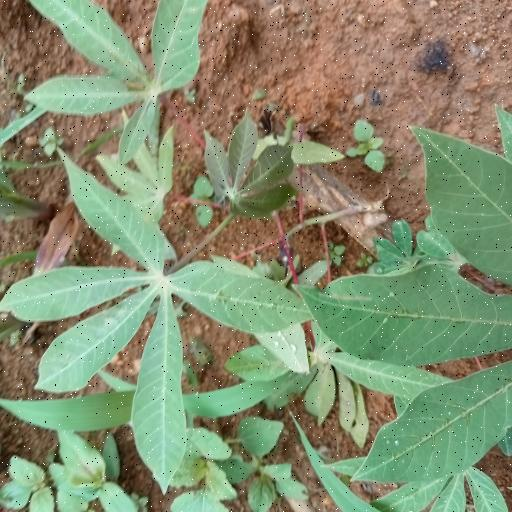Cassava_Mosaic: (25, 158, 315, 473)
